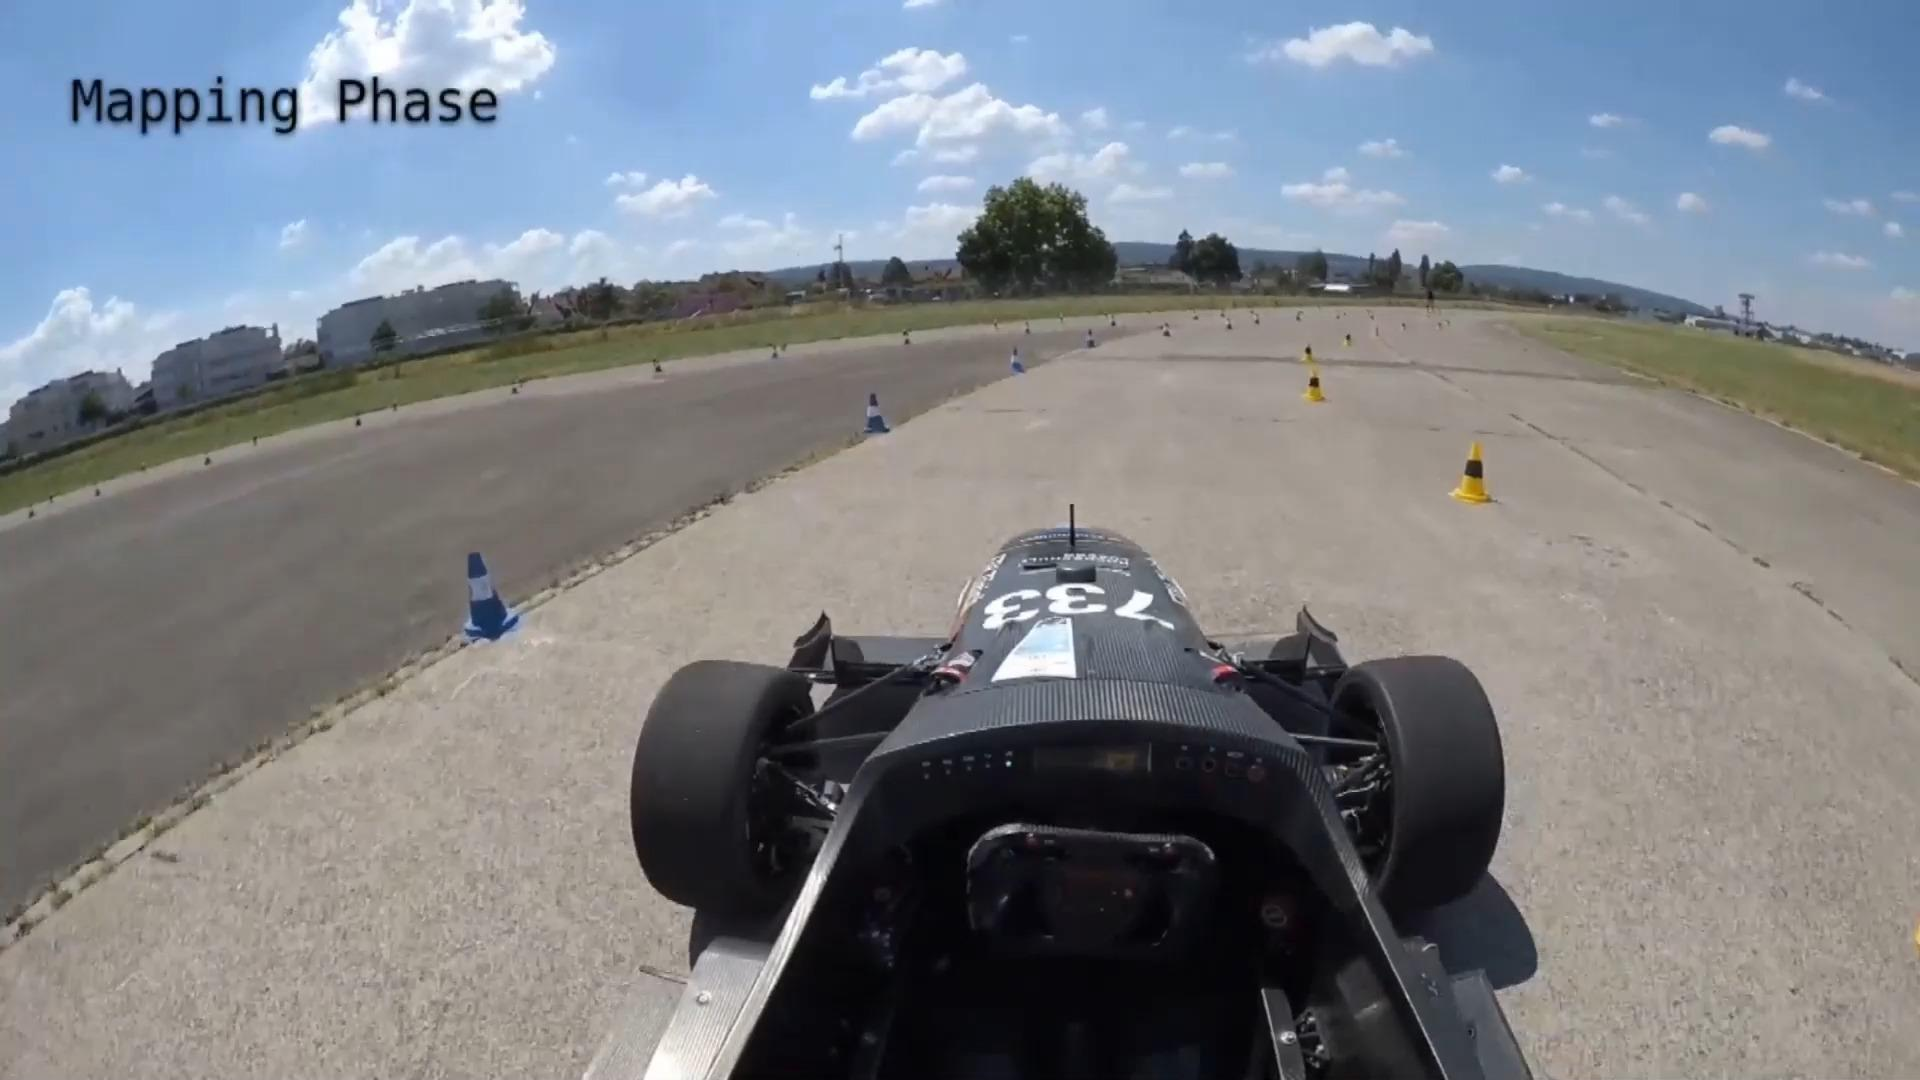blue_cone: (459, 551, 525, 638), (862, 392, 891, 435)
yellow_cone: (1448, 443, 1495, 506), (1300, 367, 1328, 404)
